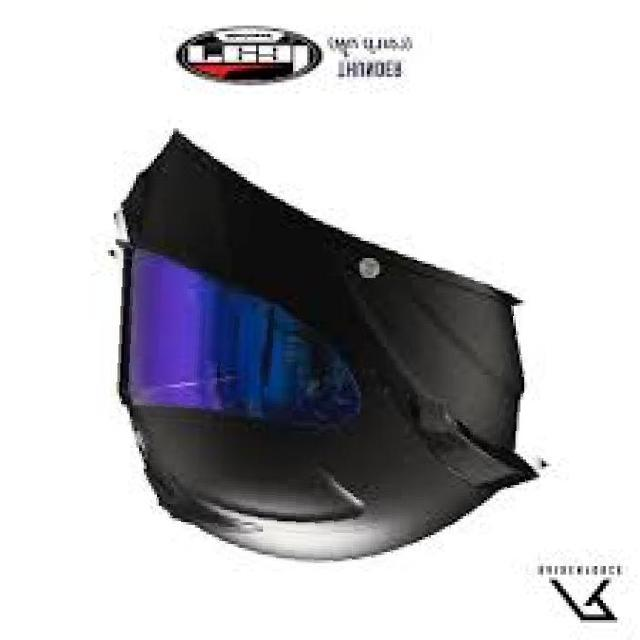helmet: (105, 130, 553, 570)
